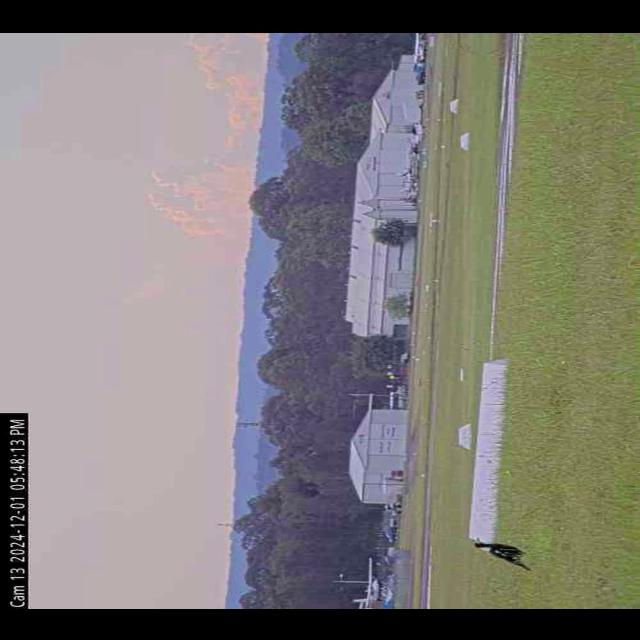Birds-Other: (469, 534, 534, 572)
